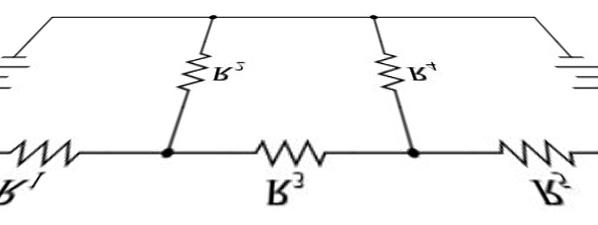resistor: (485, 130, 584, 169), (241, 127, 339, 163), (5, 132, 98, 168), (170, 39, 212, 99), (363, 42, 404, 103)
